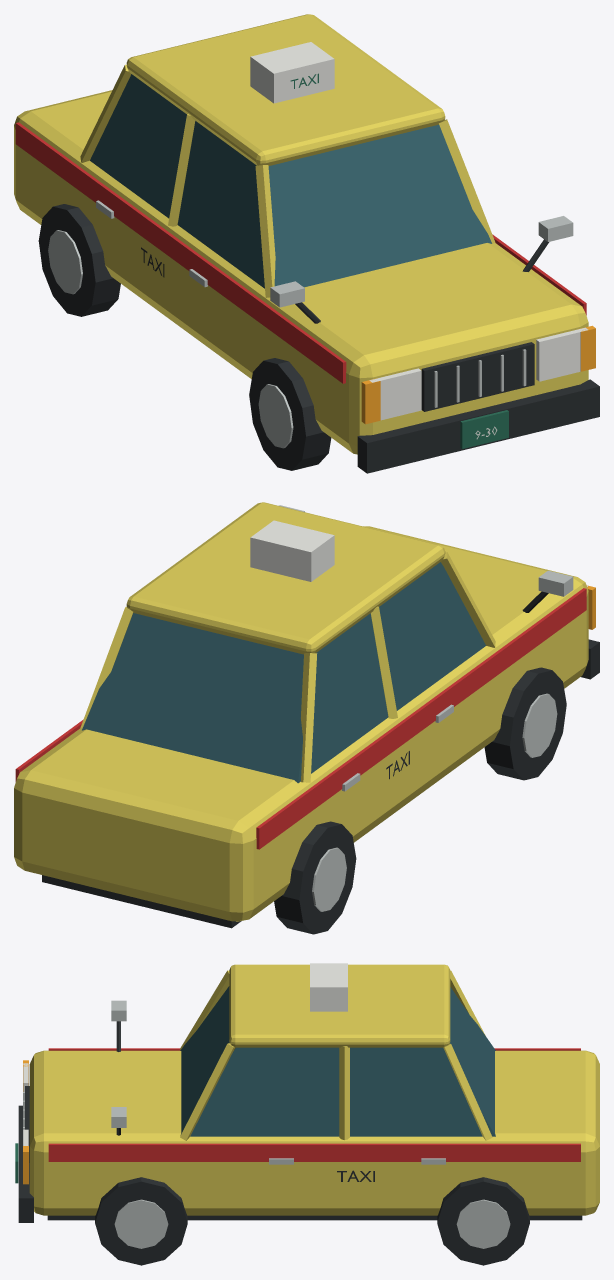
3 renders of one model, top to bottom at view 1: azimuth 30°, elevation 25°; view 2: azimuth 150°, elevation 25°; view 3: azimuth 270°, elevation 25°, orthographic. The views are drawn at different scales.
Visible parts, largest first — view 1: fukuoka-yellow-taxi; view 2: fukuoka-yellow-taxi; view 3: fukuoka-yellow-taxi.
Boxes of the visible parts, x1,y1,x2,y2 form: fukuoka-yellow-taxi: (14,14,599,473); fukuoka-yellow-taxi: (14,502,599,934); fukuoka-yellow-taxi: (15,963,599,1265).
Bounding box in the file's own units: 2.32 × 2.21 × 4.93.
